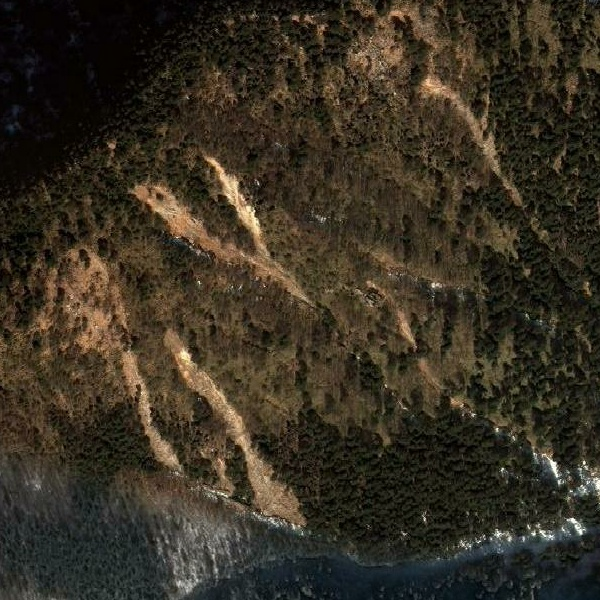slope: (24, 241, 185, 477), (162, 319, 307, 529), (133, 148, 313, 301), (419, 65, 505, 179), (352, 273, 429, 367)
